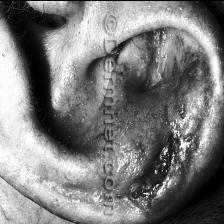Potentially Malignant Skin Tumors: (130, 132, 176, 198), (150, 24, 168, 50)
